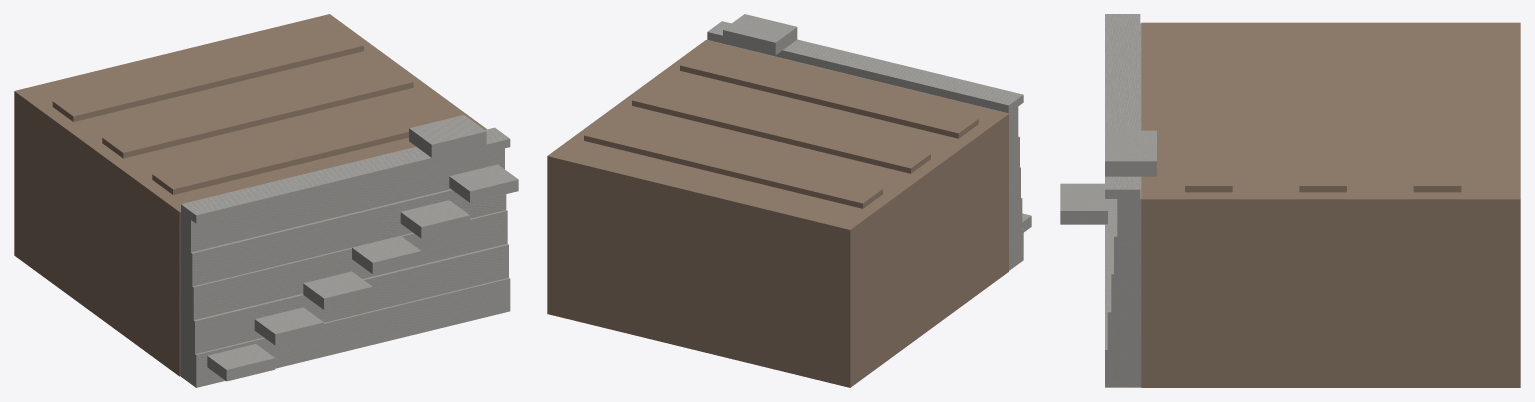
File: andean-terraces-and-stone-village-terrace-flying-steps-2930f6d6__38223.glb
3 renders of one model, left to right at view 1: azimuth 30°, elevation 25°; view 2: azimuth 150°, elevation 25°; view 3: azimuth 270°, elevation 25°, orthographic. The views are drawn at different scales.
Visible parts, largest first — view 1: terrace-flying-steps-earth, terrace-flying-steps-stone; view 2: terrace-flying-steps-earth, terrace-flying-steps-stone; view 3: terrace-flying-steps-earth, terrace-flying-steps-stone.
Boxes of the visible parts, x1,y1,x2,y2 form: terrace-flying-steps-earth: (14,14,486,376); terrace-flying-steps-stone: (180,115,518,387); terrace-flying-steps-earth: (547,40,1008,387); terrace-flying-steps-stone: (707,14,1031,270); terrace-flying-steps-earth: (1141,22,1520,387); terrace-flying-steps-stone: (1060,14,1156,387).
Bounding box in the file's own units: 4.02 × 2.26 × 4.43.
2 materials, 1 textured.
